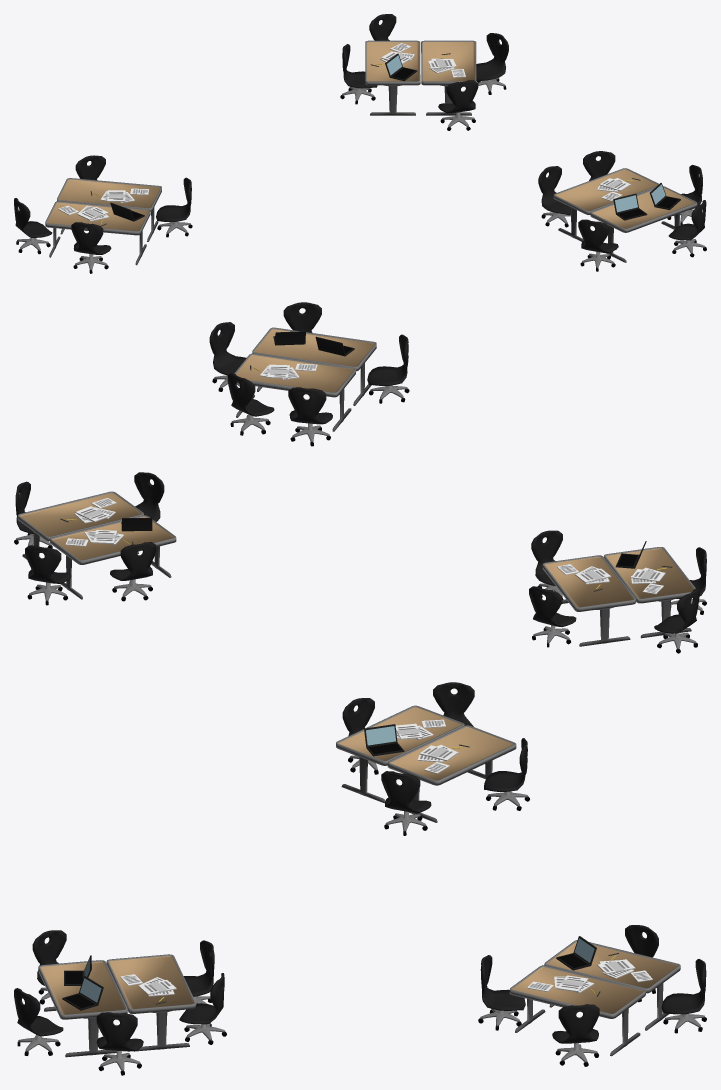
The model's file is d-roomcomp-r8-studentClub-in.glb.
3 views of the same model, one above another, from view 1: azimuth 30°, elevation 25°; view 2: azimuth 150°, elevation 25°; view 3: azimuth 270°, elevation 25° (orthographic). The views are drawn at different scales.
Parts seen in each view (by area): view 1: officeDesk.019, officeDesk.018, officeDesk.020, officeDesk.015, officeDesk.017, officeDesk.016, officeChair.035, officeChair.042, officeChair.034, officeChair.041, officeChair.030, officeChair.033 (+14 smaller); view 2: officeDesk.015, officeDesk.018, officeDesk.020, officeDesk.016, officeDesk.019, officeDesk.017, officeChair.030, officeChair.040, officeChair.039, officeChair.037, officeChair.031, officeChair.036 (+12 smaller); view 3: officeDesk.019, officeDesk.018, officeDesk.015, officeDesk.017, officeDesk.016, officeDesk.020, officeChair.032, officeChair.041, officeChair.038, officeChair.033, officeChair.040, officeChair.042 (+15 smaller).
Part boxes in pixels (x1,y1,x2,y2): officeDesk.019: [421, 40, 476, 115]; officeDesk.018: [553, 168, 658, 241]; officeDesk.020: [365, 40, 420, 115]; officeDesk.015: [57, 178, 161, 241]; officeDesk.017: [590, 186, 697, 262]; officeDesk.016: [45, 201, 150, 265]; officeChair.035: [71, 222, 111, 273]; officeChair.042: [438, 80, 478, 130]; officeChair.034: [578, 219, 618, 271]; officeChair.041: [476, 33, 508, 94]; officeChair.030: [538, 166, 570, 227]; officeChair.033: [668, 200, 706, 257]; officeDesk.015: [542, 555, 635, 646]; officeDesk.018: [234, 353, 355, 431]; officeDesk.020: [50, 515, 176, 599]; officeDesk.016: [604, 547, 695, 638]; officeDesk.019: [17, 491, 143, 559]; officeDesk.017: [252, 327, 376, 405]; officeChair.030: [288, 387, 332, 446]; officeChair.040: [25, 545, 71, 605]; officeChair.039: [110, 542, 156, 601]; officeChair.037: [529, 586, 576, 647]; officeChair.031: [227, 373, 274, 435]; officeChair.036: [654, 588, 699, 653]; officeDesk.019: [509, 965, 645, 1056]; officeDesk.018: [106, 954, 195, 1051]; officeDesk.015: [387, 725, 516, 822]; officeDesk.017: [38, 960, 127, 1057]; officeDesk.016: [336, 705, 464, 803]; officeDesk.020: [544, 940, 680, 1030]; officeChair.032: [96, 1012, 143, 1075]; officeChair.041: [552, 1004, 599, 1066]; officeChair.038: [381, 771, 431, 835]; officeChair.033: [14, 988, 63, 1055]; officeChair.040: [661, 959, 706, 1033]; officeChair.042: [478, 955, 525, 1030].
Bounding box in the file's own units: 15 × 1.27 × 13.13.
2 materials, 2 textured.
